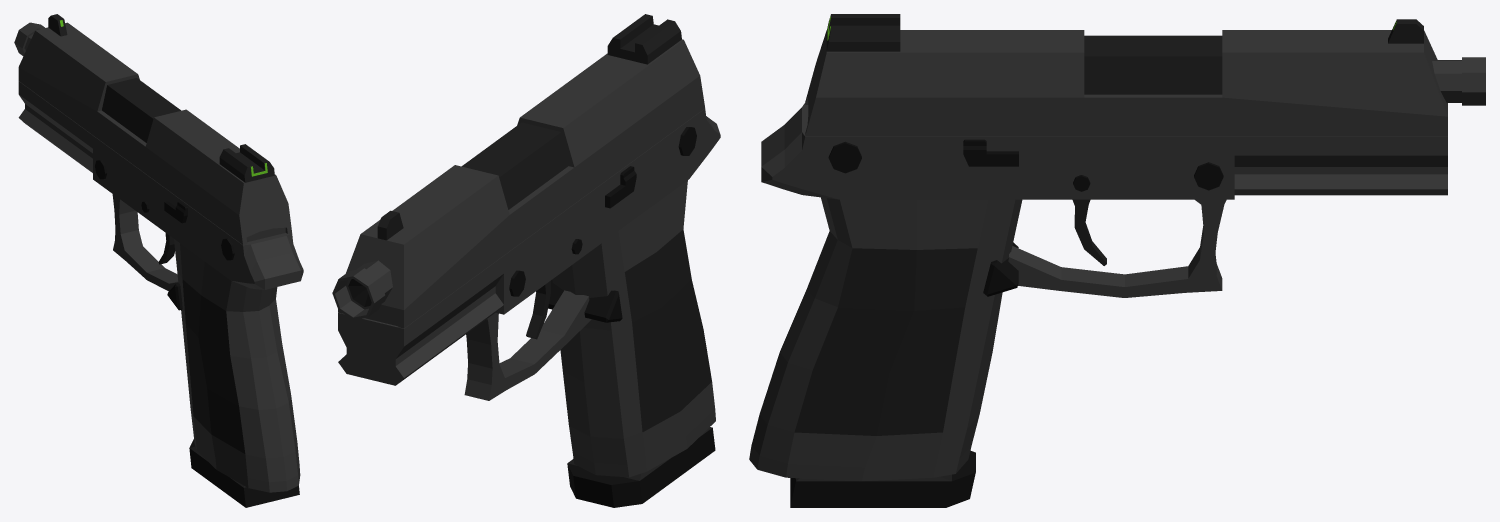
File: Pistol_Compact_West.fbx
3 renders of one model, left to right at view 1: azimuth 30°, elevation 25°; view 2: azimuth 150°, elevation 25°; view 3: azimuth 270°, elevation 25°, orthographic. The views are drawn at different scales.
Visible parts, largest first — view 1: Pistol_Compact_West; view 2: Pistol_Compact_West; view 3: Pistol_Compact_West.
Boxes of the visible parts, box(x1,y1,x2,y2) form: Pistol_Compact_West: box(14, 14, 303, 507); Pistol_Compact_West: box(332, 14, 720, 507); Pistol_Compact_West: box(749, 14, 1485, 507).
Size of the model in its own units: 0.0268 by 0.1345 by 0.1921.
1 material, 1 textured.
